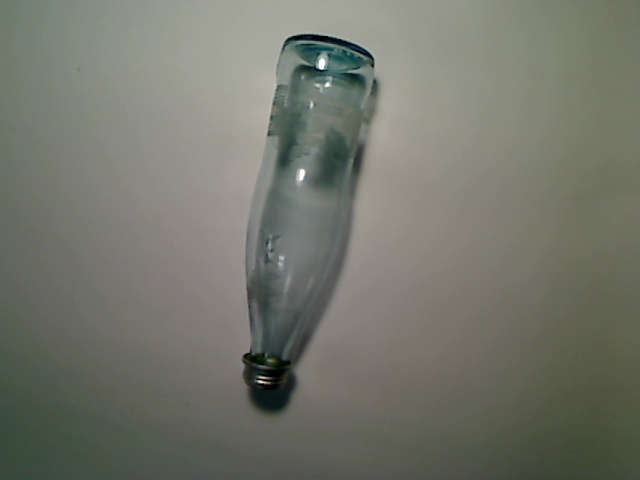bottle: (240, 35, 375, 391)
